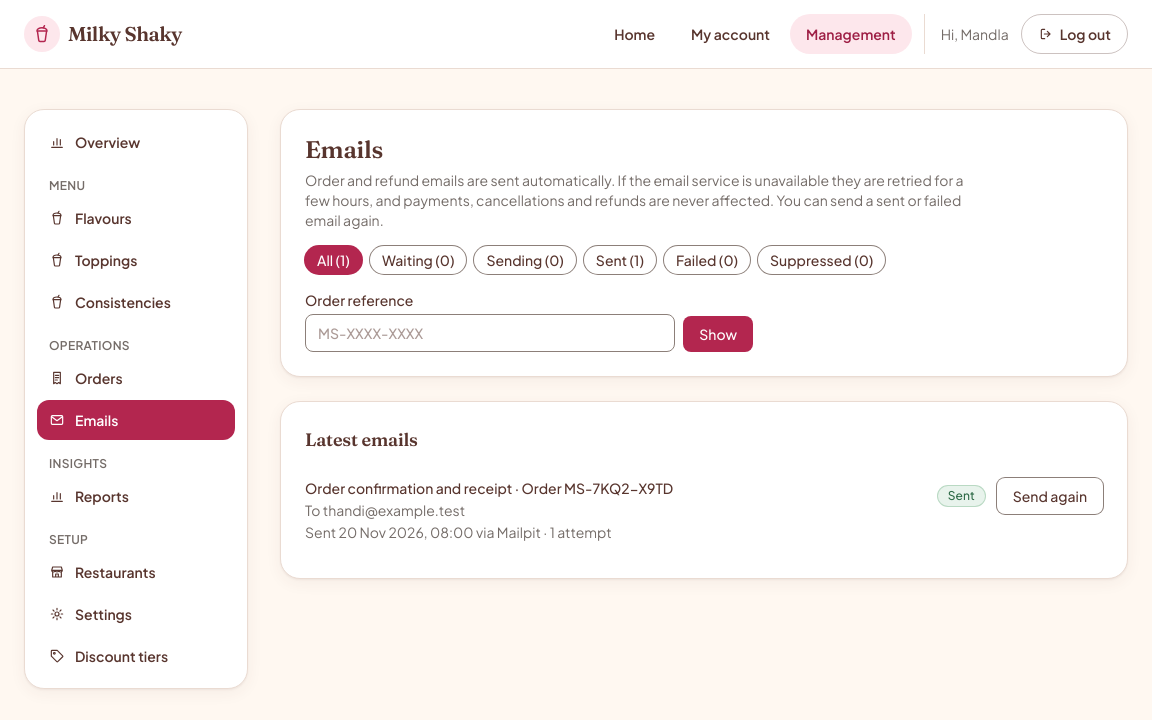
Management → Emails › shows why a resend was refused
Click the button "Send again" at (1050, 496), box [997,478,1103,514]
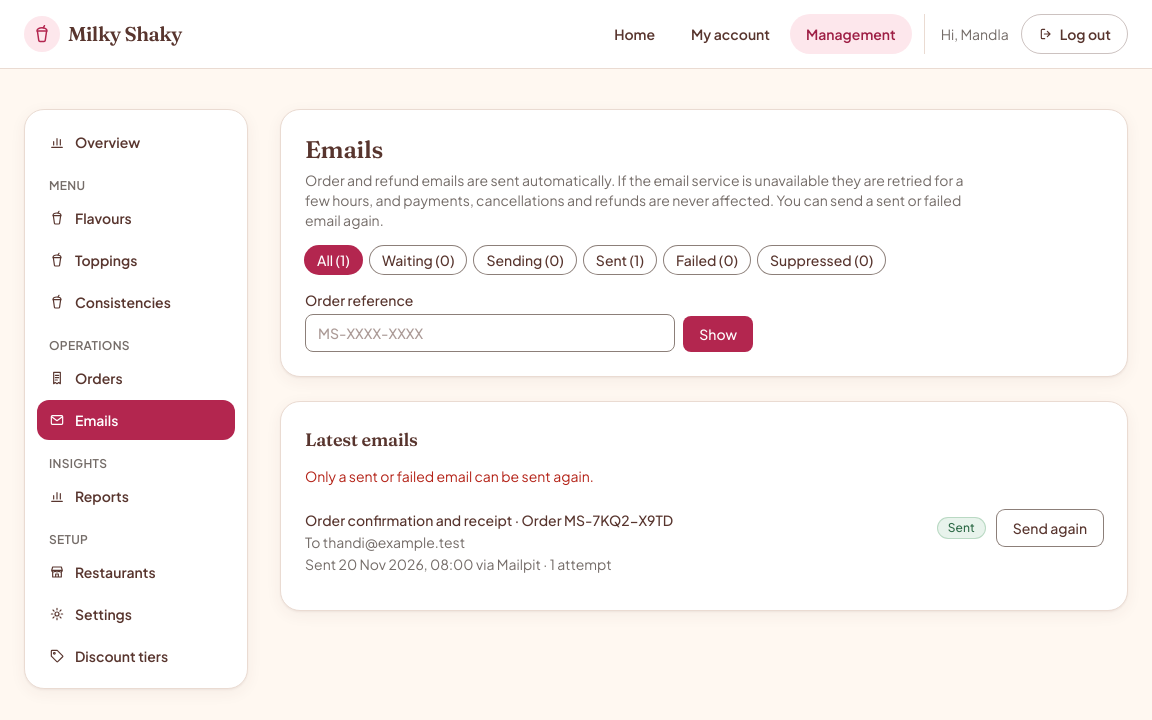
Result: the message reads "Only a sent or failed email can be sent again." at [305,467,594,485]
